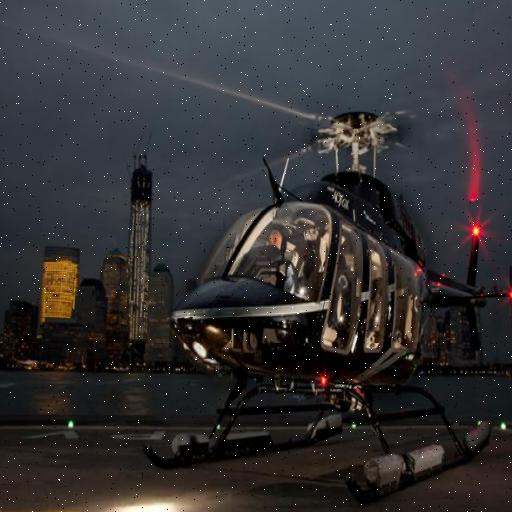helicopter: (124, 57, 512, 487)
